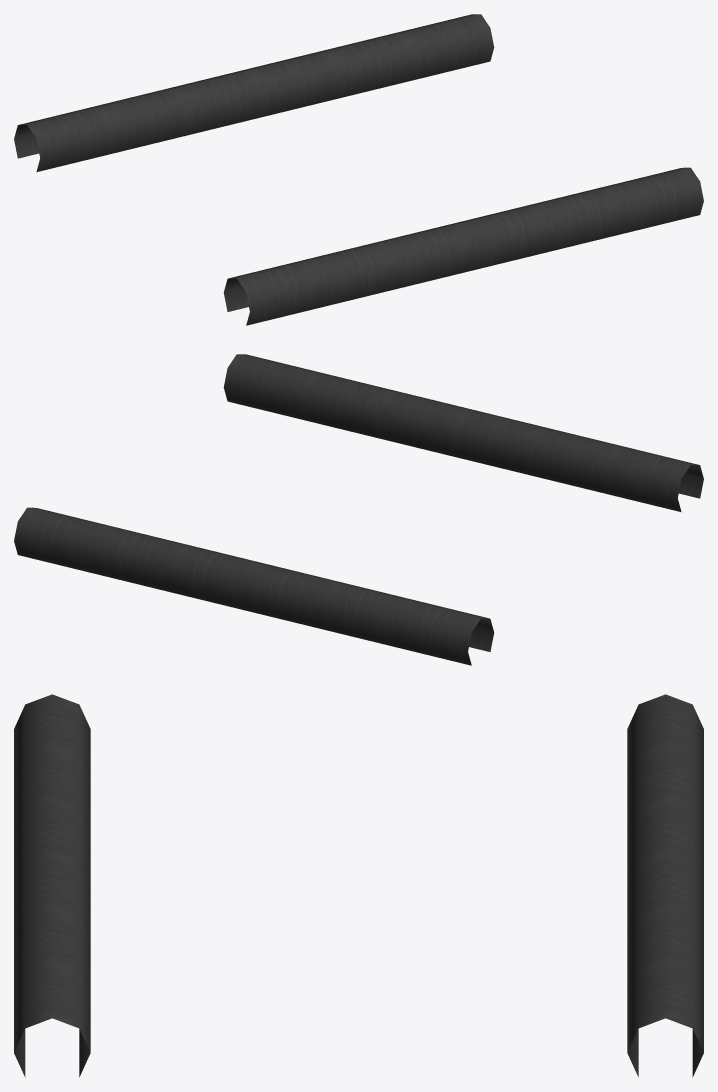
File: large_black_edge_straight_simple.dae
The picture shows the model from 3 angles, top to bottom: view 1: azimuth 30°, elevation 25°; view 2: azimuth 150°, elevation 25°; view 3: azimuth 270°, elevation 25°; orthographic projection. The views are drawn at different scales.
Visible parts, largest first — view 1: large_black_edge_straight; view 2: large_black_edge_straight; view 3: large_black_edge_straight.
Boxes of the visible parts, x1=… form: large_black_edge_straight: x1=14, y1=14, x2=703, y2=325; large_black_edge_straight: x1=14, y1=354, x2=703, y2=665; large_black_edge_straight: x1=14, y1=694, x2=703, y2=1077.
Size of the model in its own units: 3 by 2.7 by 0.2561.
1 material, 1 textured.
